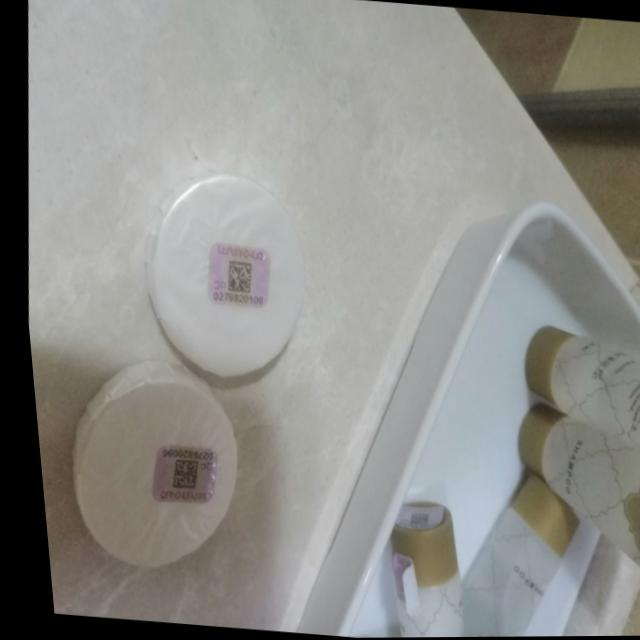datamatrix: (217, 260, 250, 296), (161, 458, 194, 492), (397, 511, 421, 529)
